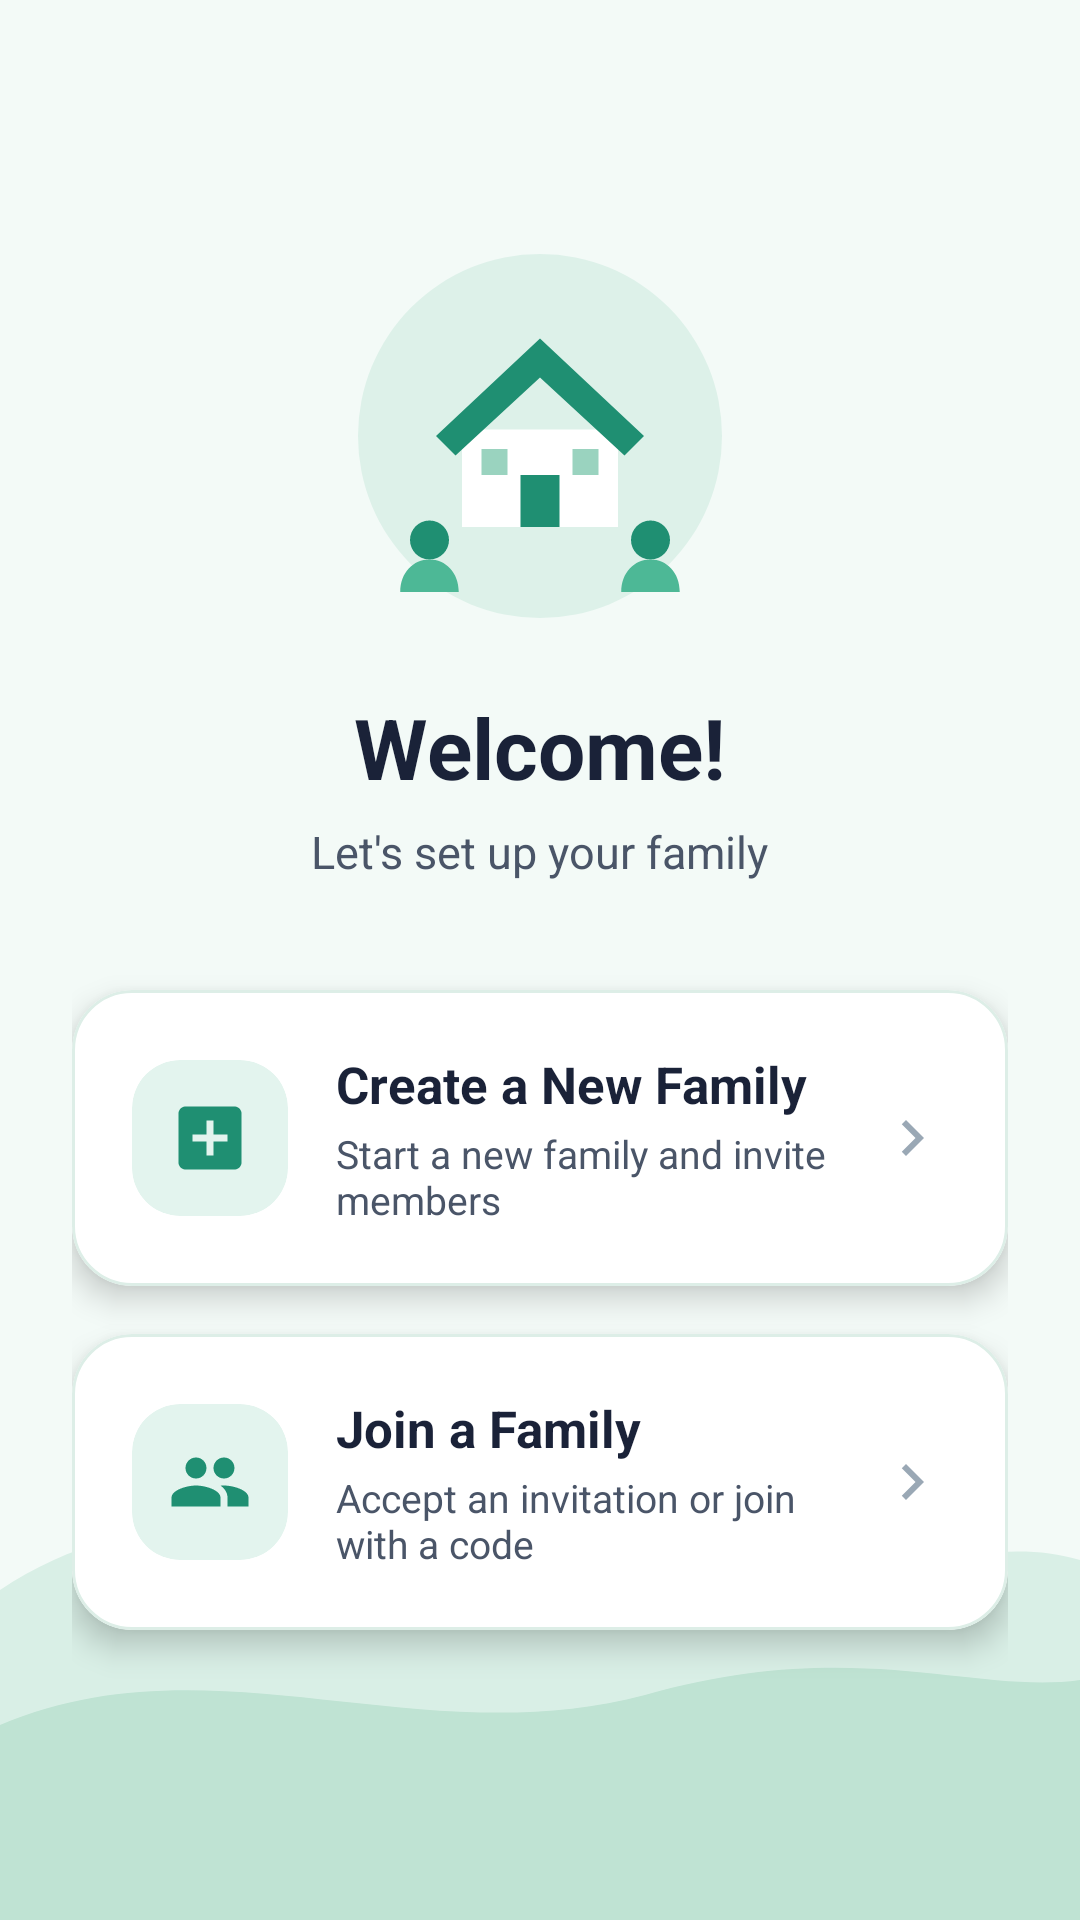

Named icons in this screenshot (1080px×1920px) and their centers, (x,y):
add family: (210,1138)
chevron right: (913,1138), (913,1482)
